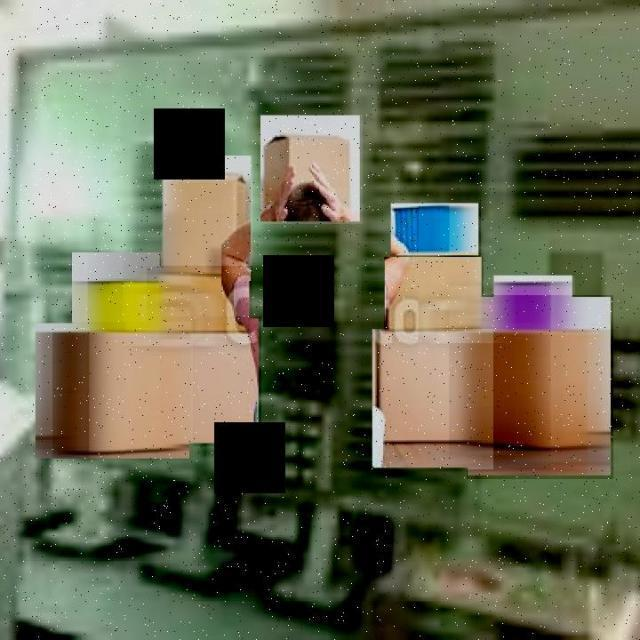box: (466, 295, 614, 479), (33, 322, 193, 460), (372, 328, 494, 469), (162, 316, 262, 446), (162, 156, 253, 282), (261, 115, 364, 224), (73, 252, 164, 340), (384, 256, 484, 334), (148, 266, 252, 331), (390, 202, 480, 258), (492, 276, 576, 336)
